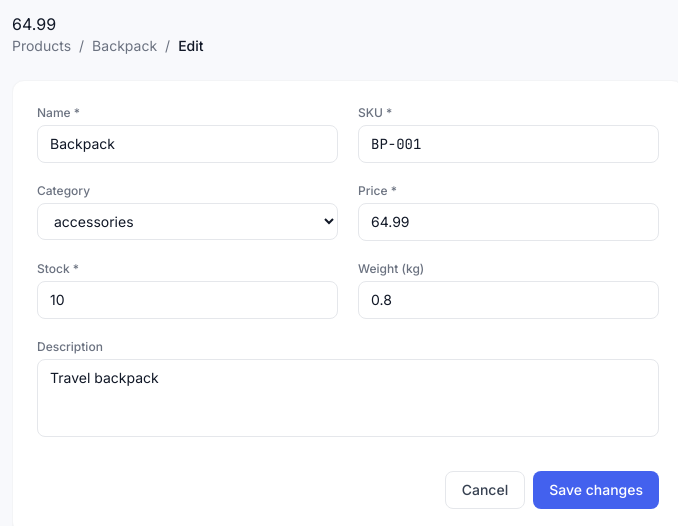
Test: ProductFormPage › regression: cart showed stale price after editing a product already in the cart › updates the price shown in the cart immediately after a successful edit
Expected: the field showing "Backpack" below "Name *" is shown, [37, 125, 338, 163]
Expected: the text with test id "cart-price-peek" reads "64.99", [12, 14, 56, 34]
Replace the text in the number field showing "64.99" below "Price *" with "34.99": (508, 222) [358, 203, 659, 241]
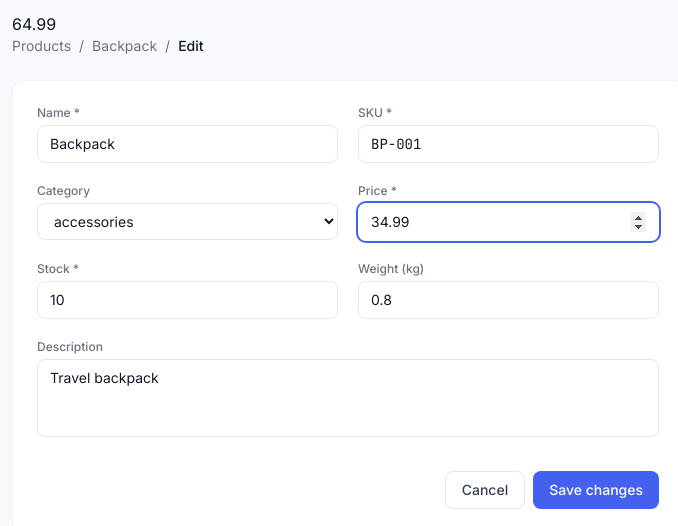
Click the button "Save changes": (596, 490) [533, 471, 659, 509]
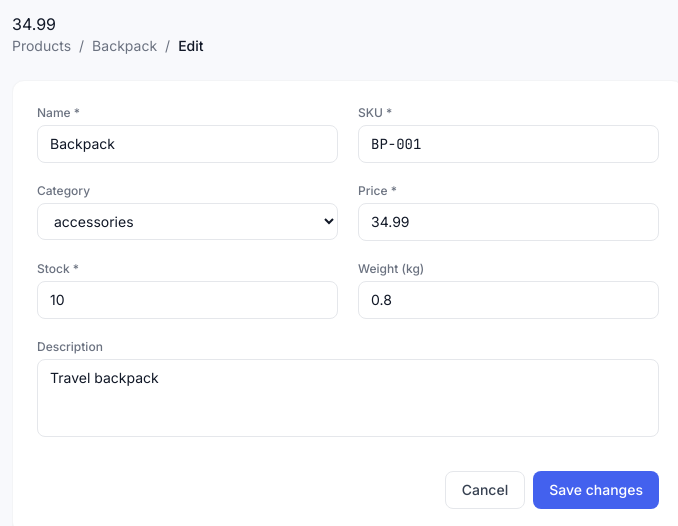
Now the text with test id "cart-price-peek" reads "34.99", box [12, 14, 56, 34]
